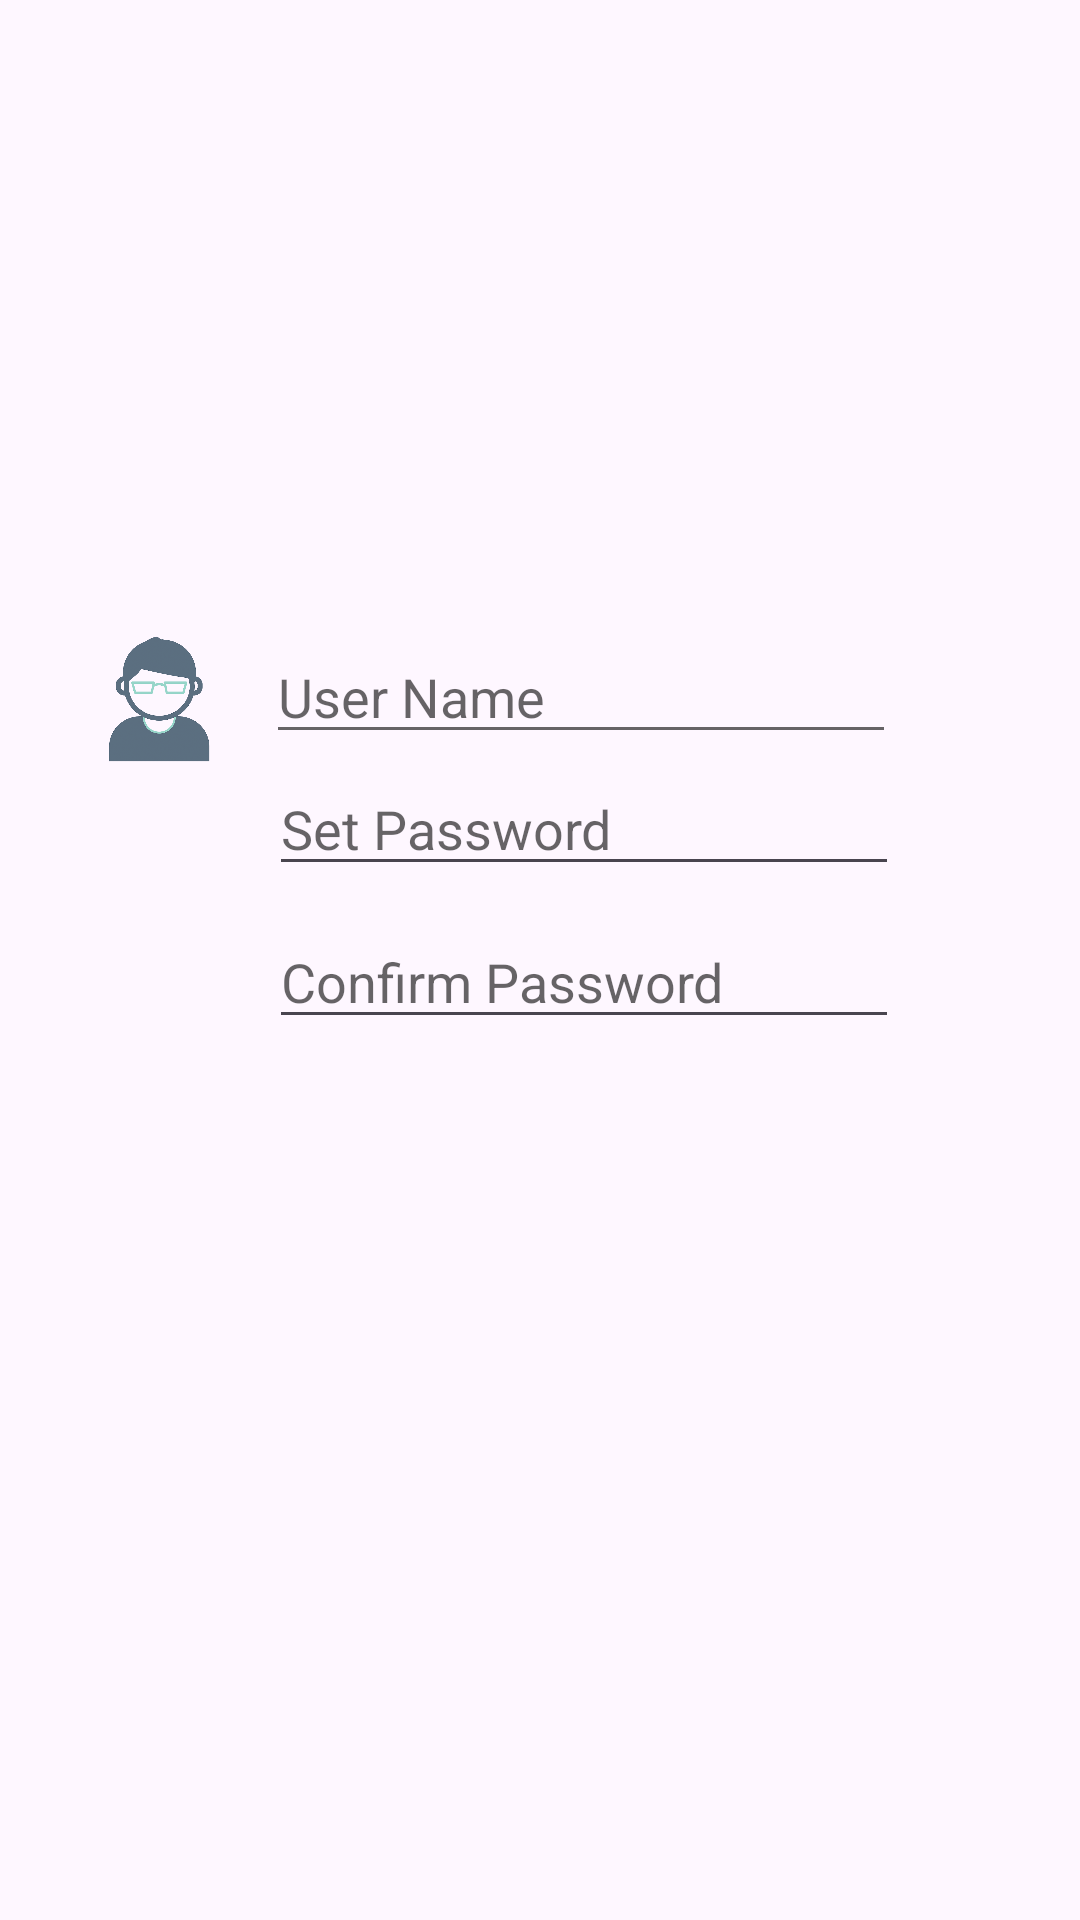

Icons on this 1080 × 1920 Android screen, each with the point to tap as (x=x, y=y):
usericon: (x=159, y=699)
